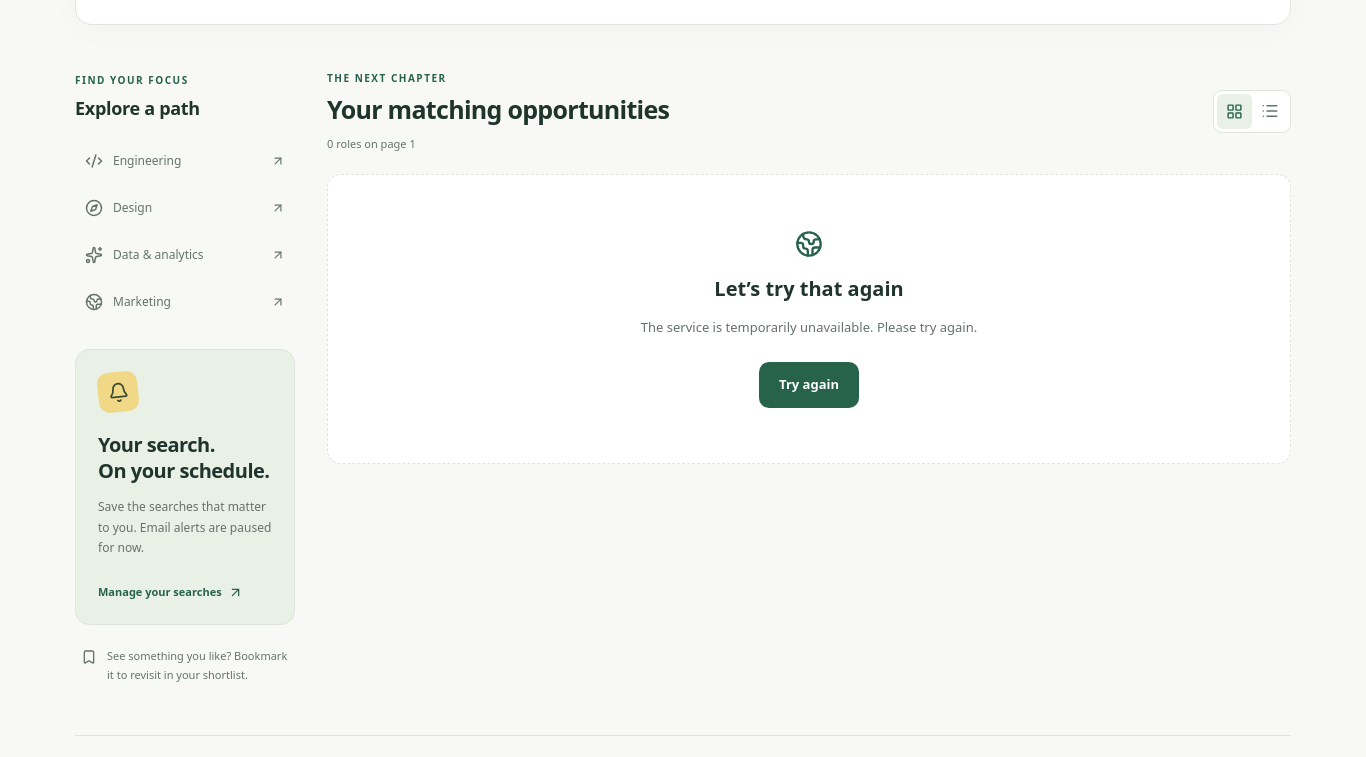
Test: job feed › treats HTTP failures as errors and recovers on retry
(page scrolled)
Expected: the message shows "temporarily unavailable", [641,318,977,336]
Click the button "Try again".
click(809, 385)  # box [759,362,859,408]
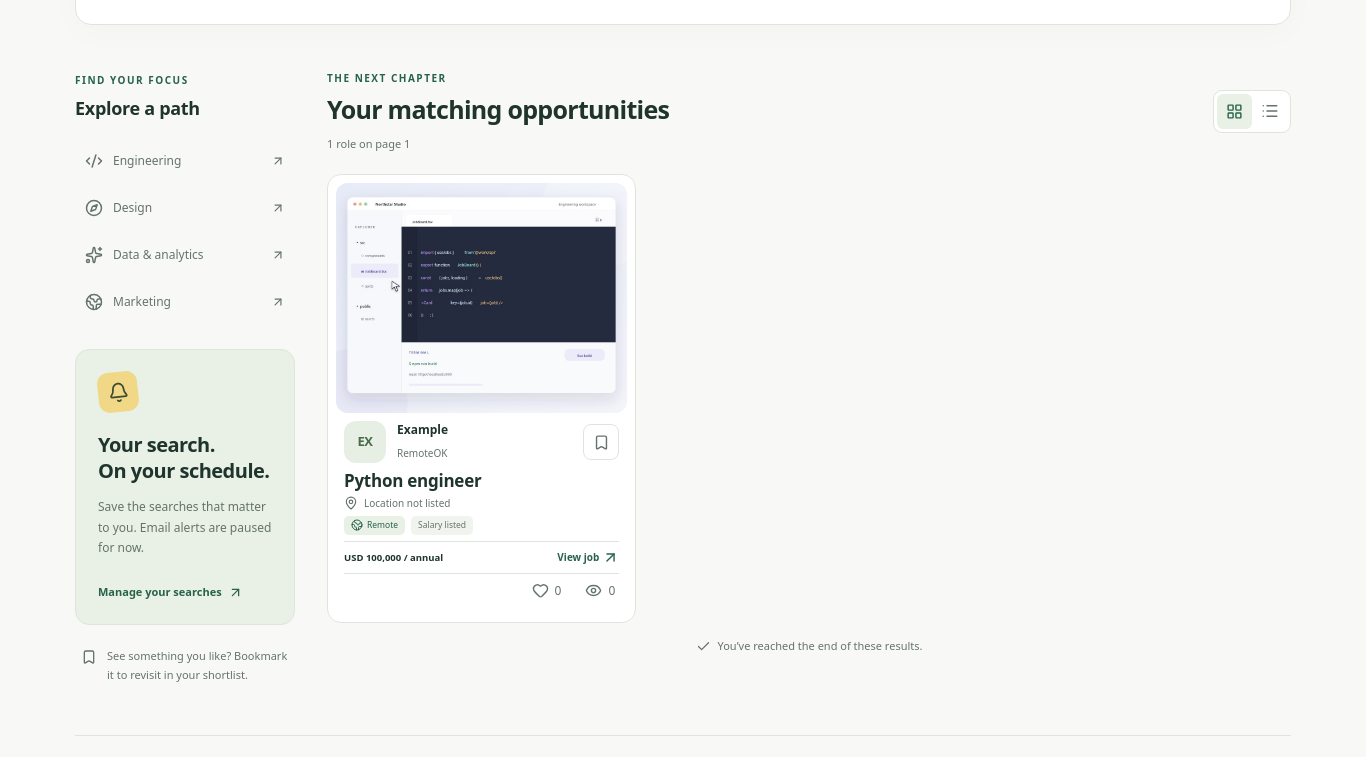
Now the link "Python engineer" is shown, box [344,469,481,492]
